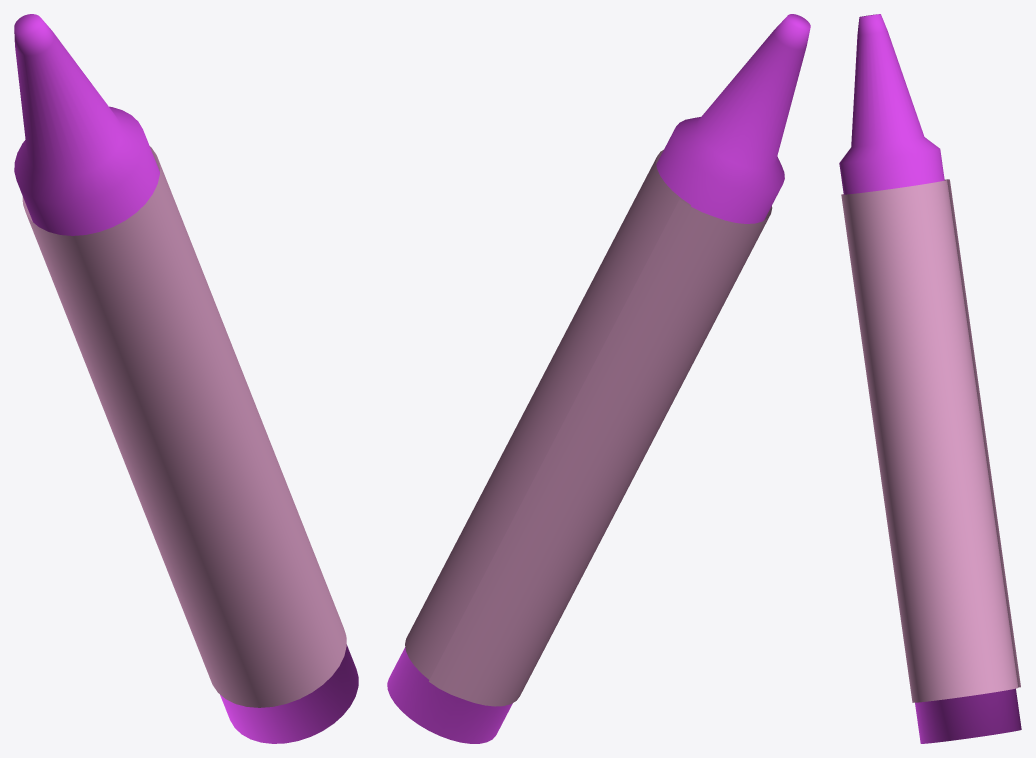
3 renders of one model, left to right at view 1: azimuth 30°, elevation 25°; view 2: azimuth 150°, elevation 25°; view 3: azimuth 270°, elevation 25°, orthographic. The views are drawn at different scales.
Visible parts, largest first — view 1: CarnationPink_Crayon; view 2: CarnationPink_Crayon; view 3: CarnationPink_Crayon.
Boxes of the visible parts, <box> form: CarnationPink_Crayon: <box>14,14,358,743</box>; CarnationPink_Crayon: <box>387,14,810,743</box>; CarnationPink_Crayon: <box>839,14,1021,743</box>.
Bounding box in the file's own units: 0.5943 × 1.19 × 0.3147.
